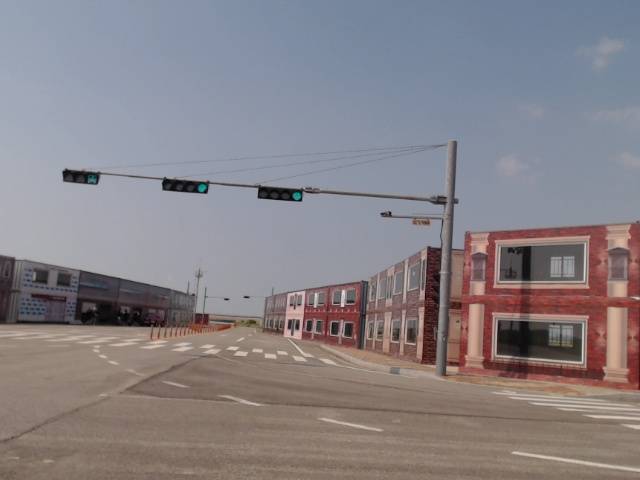straight_green_4: (162, 178, 210, 196), (257, 186, 305, 203)
